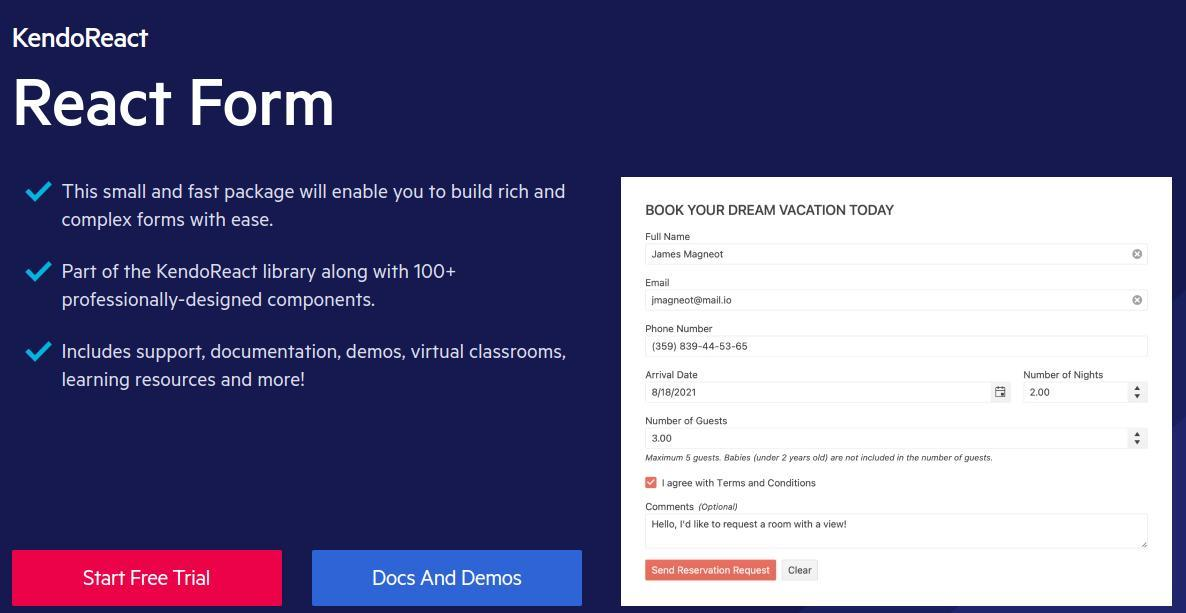button: (312, 549, 584, 608), (12, 551, 284, 608), (644, 558, 779, 583), (779, 558, 821, 584)
input: (647, 514, 1147, 549), (647, 426, 1147, 450), (646, 336, 1148, 358), (645, 245, 1149, 265), (646, 291, 1149, 310), (645, 382, 1012, 405), (1025, 382, 1148, 404)
label: (640, 202, 903, 218), (661, 476, 821, 491), (645, 500, 741, 513), (641, 416, 733, 428), (1024, 369, 1107, 382), (645, 324, 718, 335), (639, 372, 705, 382), (642, 232, 696, 244), (642, 278, 673, 289)
